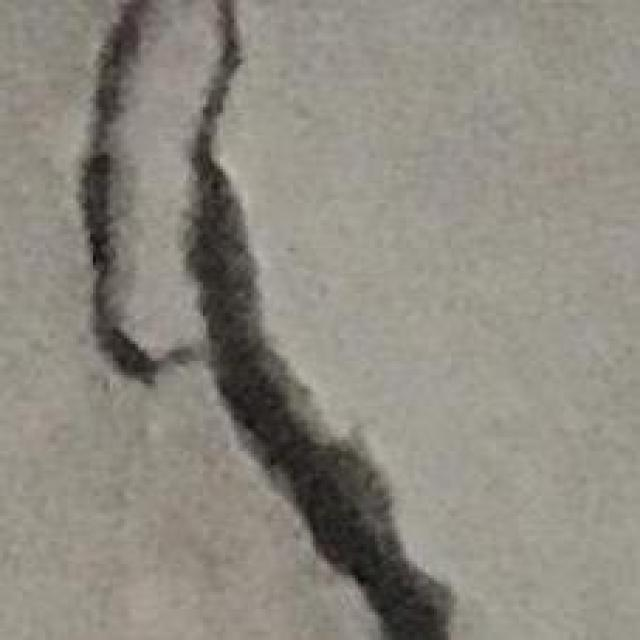Annular: (81, 0, 252, 382)
Diagonal: (194, 174, 454, 640)
